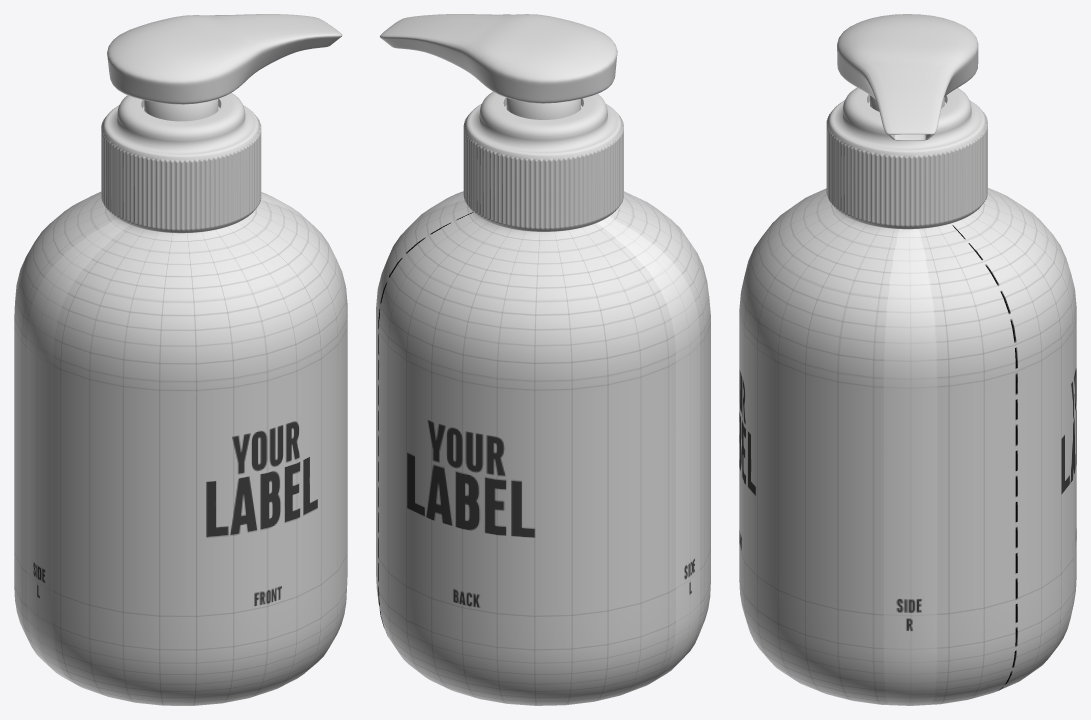
Rendered from SOAP-TURBOSQUID-ID004_v1.gltf.
3 renders of one model, left to right at view 1: azimuth 30°, elevation 25°; view 2: azimuth 150°, elevation 25°; view 3: azimuth 270°, elevation 25°, orthographic.
Parts seen in each view (by area): view 1: Obj.003; view 2: Obj.003; view 3: Obj.003.
Boxes of the visible parts, x1,y1,x2,y2 form: Obj.003: (14,14,347,705); Obj.003: (376,14,710,705); Obj.003: (739,14,1076,705).
Size of the model in its own units: 0.058 by 0.1153 by 0.0566.
2 materials, 1 textured.
